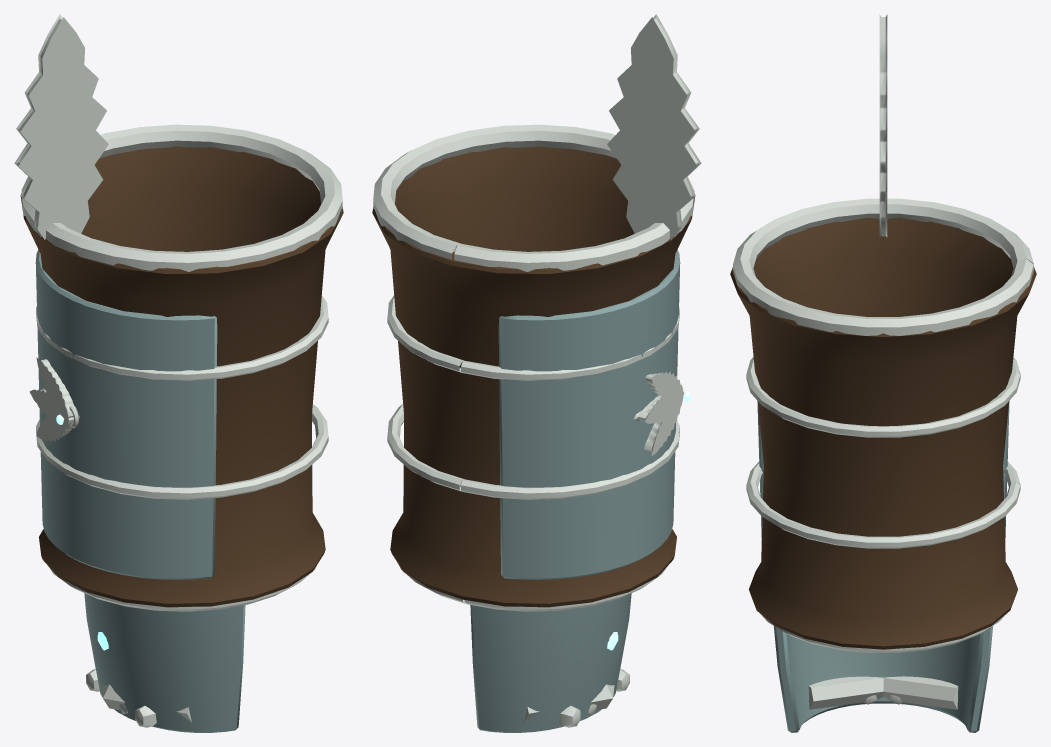
Rendered from boss_gale_nomad_gloves_2.glb.
3 renders of one model, left to right at view 1: azimuth 30°, elevation 25°; view 2: azimuth 150°, elevation 25°; view 3: azimuth 270°, elevation 25°, orthographic. The views are drawn at different scales.
Parts seen in each view (by area): view 1: boss_gale_nomad_gloves_2, AT_hand_R; view 2: boss_gale_nomad_gloves_2, AT_hand_R; view 3: boss_gale_nomad_gloves_2, AT_hand_R.
Part boxes in pixels (x1,y1,x2,y2): boss_gale_nomad_gloves_2: (14, 14, 343, 611); AT_hand_R: (84, 593, 245, 732); boss_gale_nomad_gloves_2: (372, 14, 701, 611); AT_hand_R: (470, 593, 631, 732); boss_gale_nomad_gloves_2: (730, 14, 1036, 652); AT_hand_R: (774, 626, 992, 732).
Size of the model in its own units: 0.2155 by 0.4777 by 0.2004.
